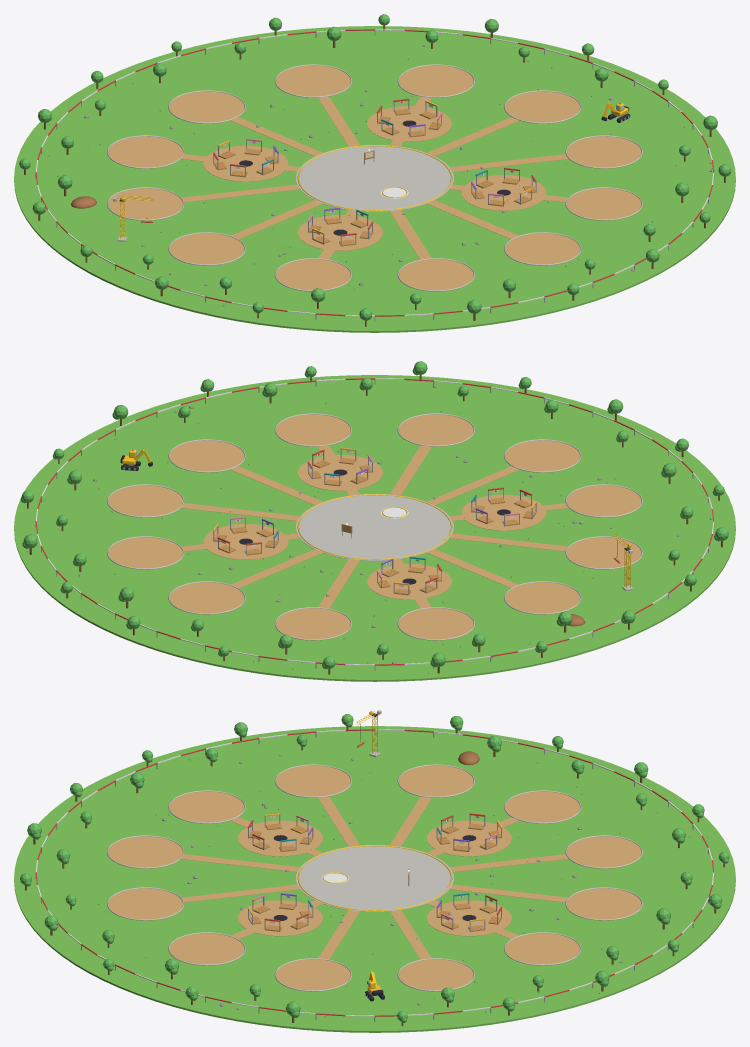
File: site.371a0f64.glb
3 views of the same model, one above another, from view 1: azimuth 30°, elevation 25°; view 2: azimuth 150°, elevation 25°; view 3: azimuth 270°, elevation 25° (orthographic).
Visible parts, largest first — view 1: Site__T_grass, Site__T_dirt, Site__T_vcol, Site__T_concrete; view 2: Site__T_grass, Site__T_dirt, Site__T_vcol, Site__T_concrete; view 3: Site__T_grass, Site__T_dirt, Site__T_vcol, Site__T_concrete.
Part boxes in pixels (x1=…): Site__T_grass: x1=14, y1=26, x2=735, y2=332; Site__T_dirt: x1=108, y1=65, x2=641, y2=291; Site__T_vcol: x1=19, y1=14, x2=731, y2=326; Site__T_concrete: x1=107, y1=64, x2=642, y2=291; Site__T_grass: x1=14, y1=375, x2=735, y2=681; Site__T_dirt: x1=108, y1=414, x2=641, y2=640; Site__T_vcol: x1=20, y1=361, x2=728, y2=674; Site__T_concrete: x1=107, y1=413, x2=642, y2=640; Site__T_grass: x1=14, y1=726, x2=735, y2=1032; Site__T_dirt: x1=108, y1=765, x2=641, y2=991; Site__T_vcol: x1=20, y1=711, x2=729, y2=1026; Site__T_concrete: x1=107, y1=710, x2=642, y2=991.
Bounding box in the file's own units: 73 × 11.12 × 73.
